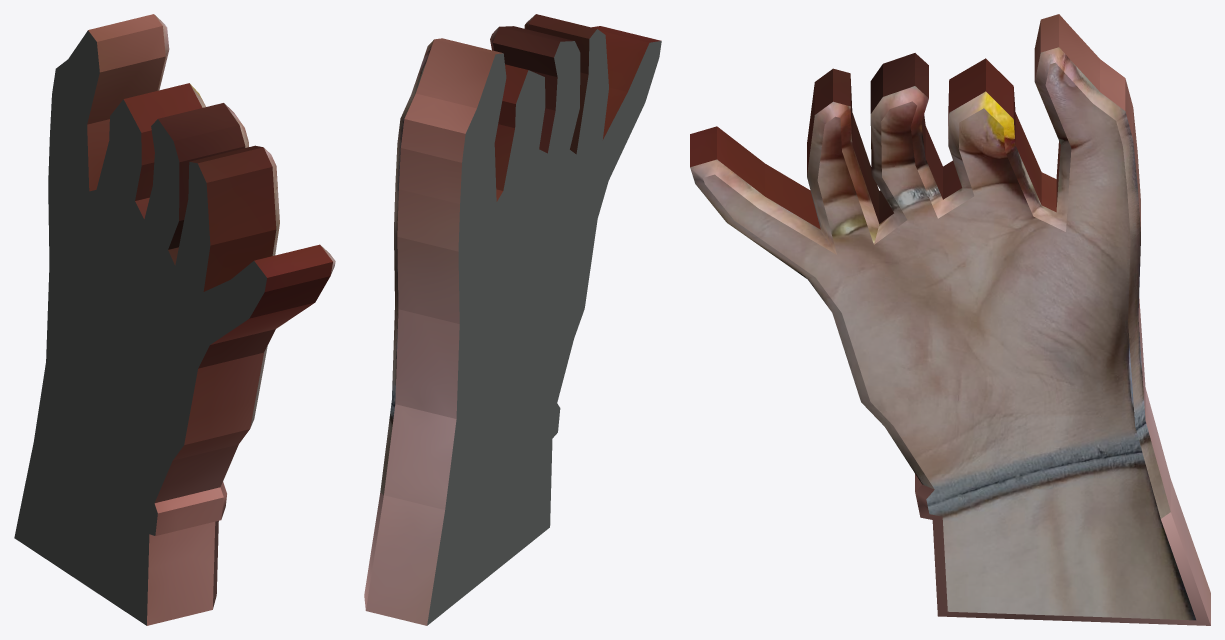
File: HandHd.fbx
3 views of the same model, side by side, from view 1: azimuth 30°, elevation 25°; view 2: azimuth 150°, elevation 25°; view 3: azimuth 270°, elevation 25° (orthographic). The views are drawn at different scales.
Visible parts, largest first — view 1: Cube; view 2: Cube; view 3: Cube.
Boxes of the visible parts, bbox=[...] form: Cube: bbox=[14, 14, 335, 625]; Cube: bbox=[364, 14, 661, 625]; Cube: bbox=[690, 14, 1210, 625].
Size of the model in its own units: 41.79 by 300 by 245.
